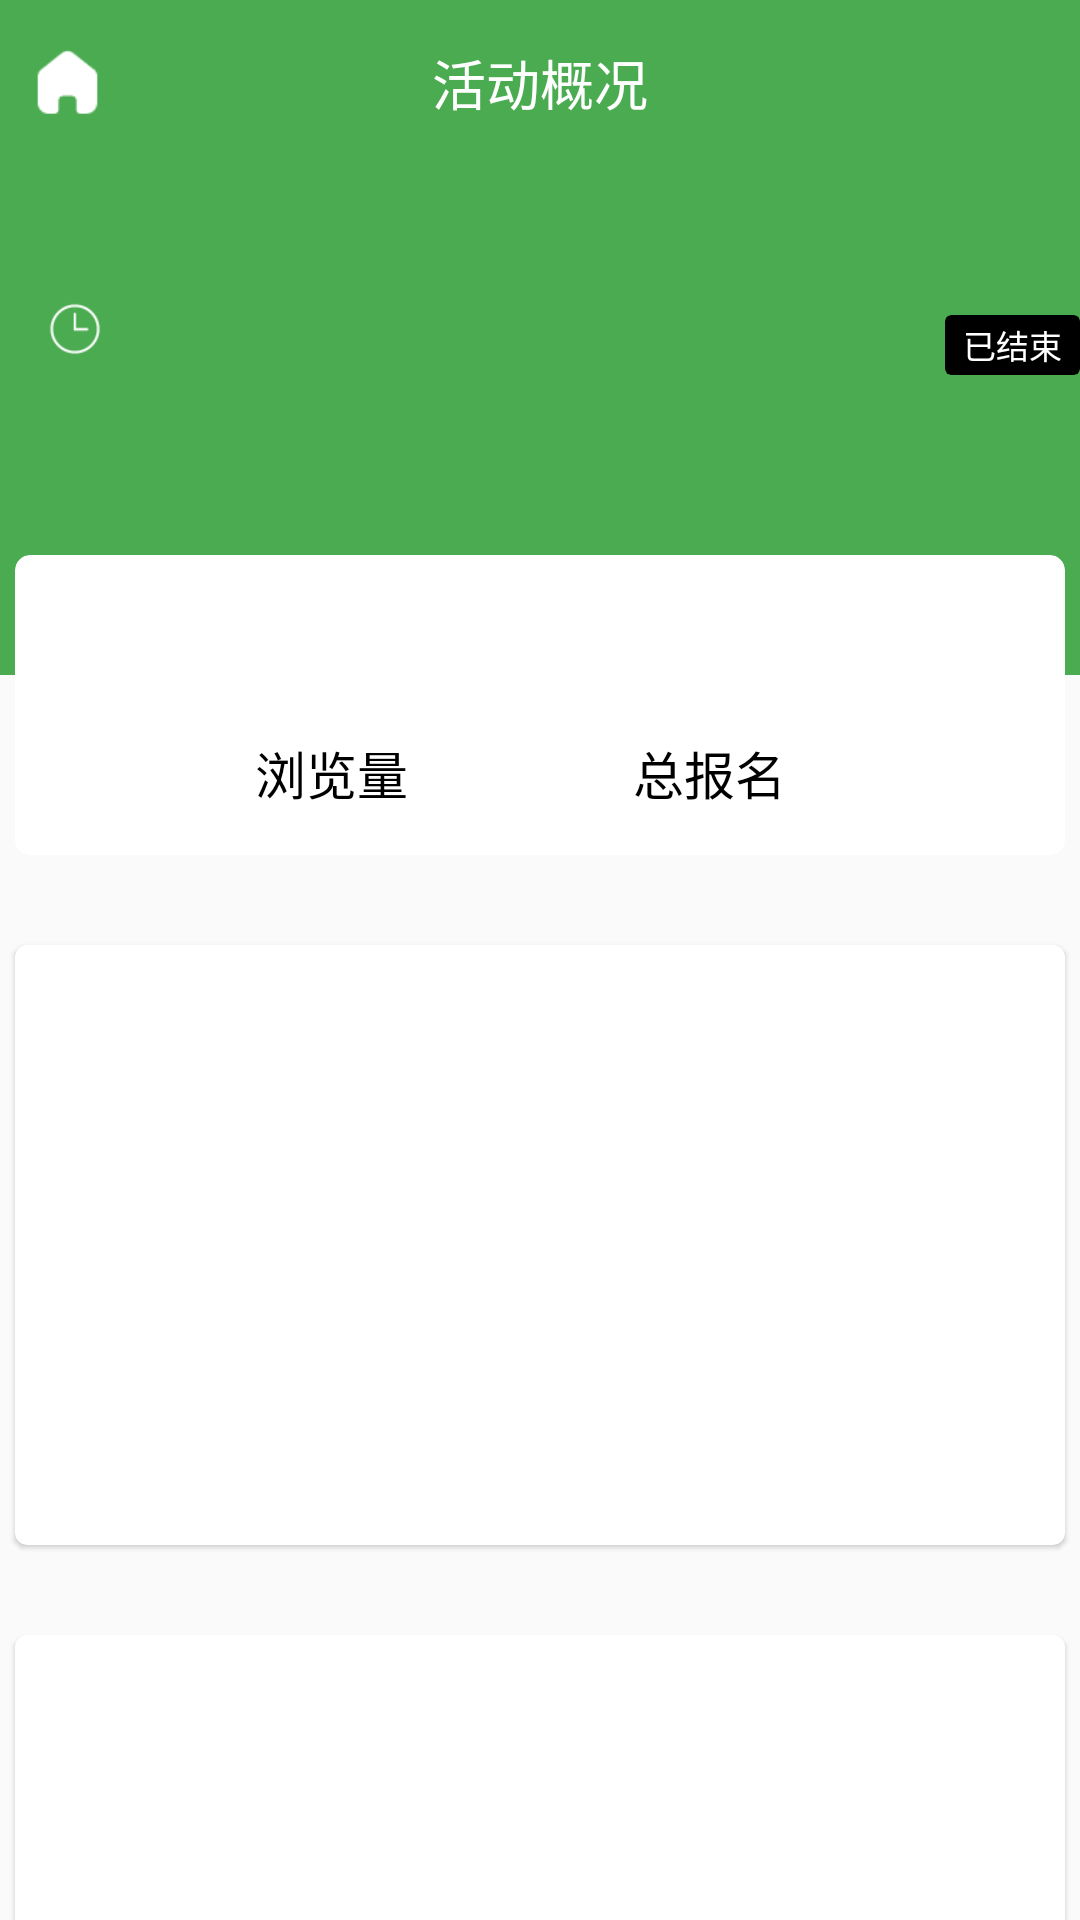

Icons on this 1080x1920 Android screen, each with its box as {"x1": x1, "y1": y1, "x2": x2, "y2": y2}:
data fragment time: {"x1": 50, "y1": 304, "x2": 100, "y2": 354}
